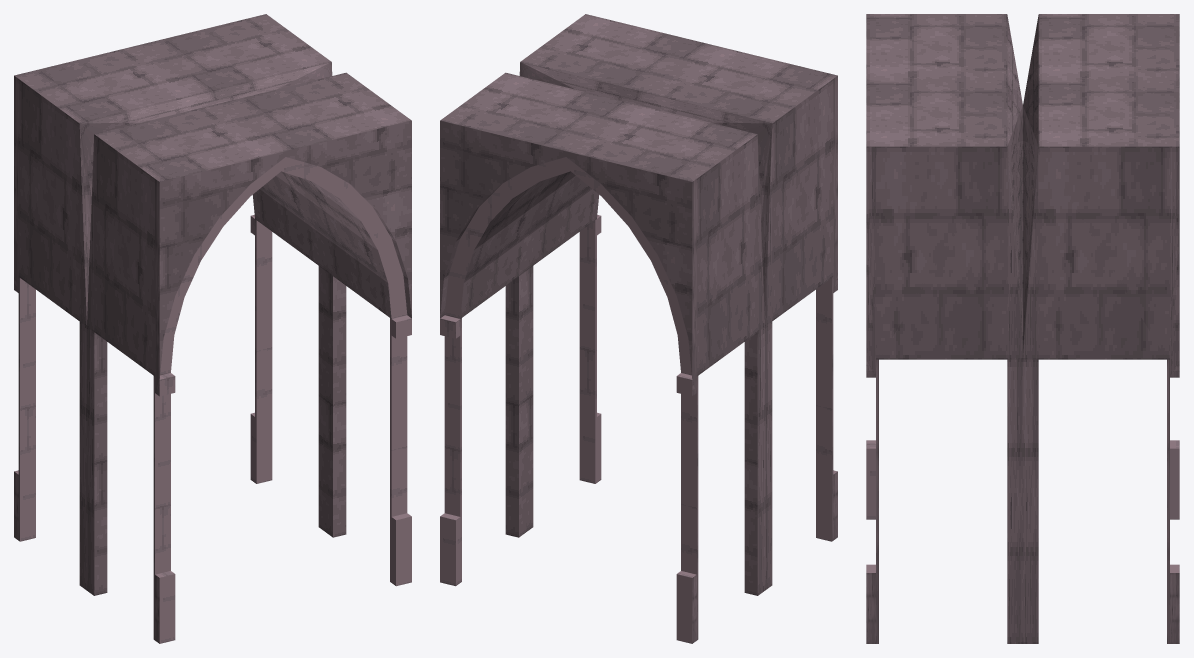
File: door_frame_normal_b.glb
The picture shows the model from 3 angles, left to right: view 1: azimuth 30°, elevation 25°; view 2: azimuth 150°, elevation 25°; view 3: azimuth 270°, elevation 25°; orthographic projection. The views are drawn at different scales.
Parts seen in each view (by area): view 1: portal_front, portal_back; view 2: portal_back, portal_front; view 3: portal_back, portal_front.
Boxes of the visible parts, x1,y1,x2,y2 form: portal_front: (87, 72, 411, 643); portal_back: (14, 14, 332, 590); portal_back: (440, 72, 764, 643); portal_front: (519, 14, 837, 590); portal_back: (1023, 14, 1179, 643); portal_front: (866, 14, 1022, 643).
Size of the model in its own units: 2 by 3.5 by 2.
1 material, 1 textured.
